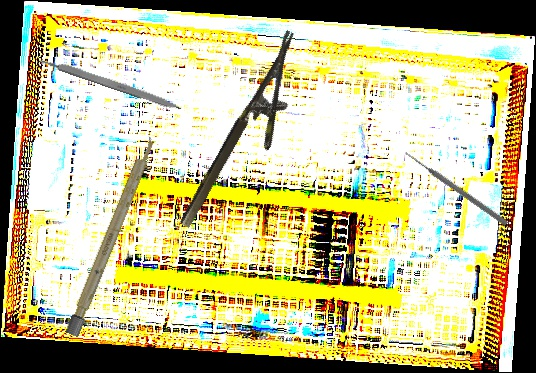Needle Holder: (176, 29, 326, 244)
Pusher: (402, 149, 510, 227)
Scalpel Handle: (65, 134, 158, 338), (37, 53, 184, 113)
